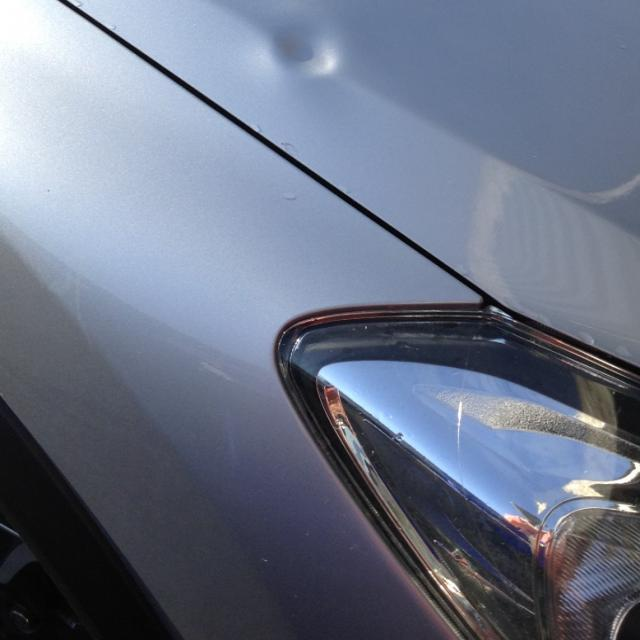dents: (254, 16, 356, 95)
